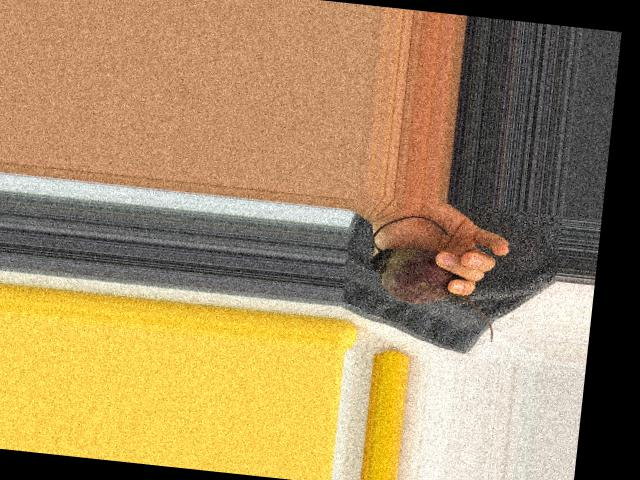beet: (364, 211, 505, 341)
